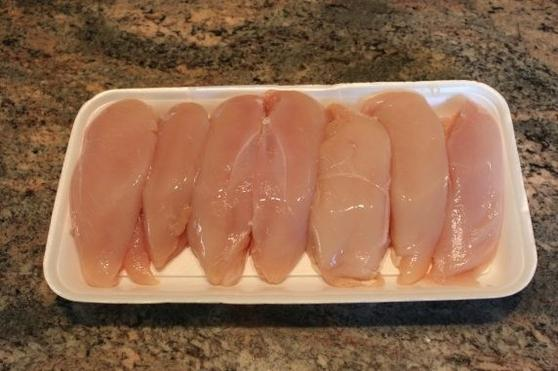chicken_fillet: (69, 99, 155, 289), (312, 102, 397, 283), (193, 95, 261, 284)
